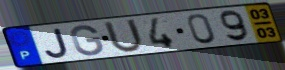0: (186, 13, 217, 46)
4: (149, 16, 177, 49)
9: (220, 9, 251, 42)
G: (70, 24, 106, 57)
J: (43, 27, 71, 60)
U: (102, 18, 146, 55)
